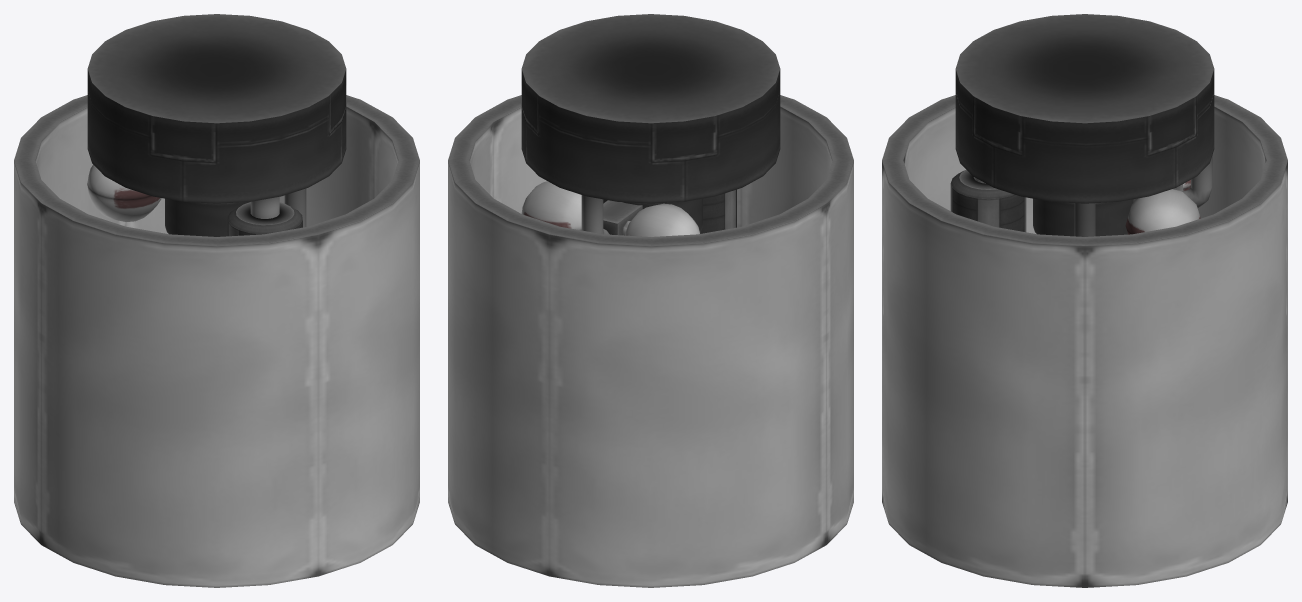
The model's file is bluedog_ablestarEngine.dae.
3 views of the same model, side by side, from view 1: azimuth 30°, elevation 25°; view 2: azimuth 150°, elevation 25°; view 3: azimuth 270°, elevation 25° (orthographic).
Visible parts, largest first — view 1: fairing, AblestarEngine, HeliumTank2, UhThingCylinder, ThingCylinderUp; view 2: fairing, AblestarEngine, HeliumTank1, HeliumTank2, UhThingCylinder, HeliumMount, HeliumOut; view 3: fairing, AblestarEngine, UhThingCylinder, HeliumTank1, HeliumOut, SidePipe.
Boxes of the visible parts, x1,y1,x2,y2 form: fairing: [14, 95, 419, 587]; AblestarEngine: [87, 14, 346, 236]; HeliumTank2: [87, 164, 161, 221]; UhThingCylinder: [227, 202, 302, 236]; ThingCylinderUp: [250, 197, 279, 218]; fairing: [448, 95, 853, 587]; AblestarEngine: [521, 14, 780, 232]; HeliumTank1: [521, 181, 581, 230]; HeliumTank2: [625, 203, 699, 236]; UhThingCylinder: [700, 189, 736, 233]; HeliumMount: [603, 200, 642, 235]; HeliumOut: [581, 195, 609, 234]; fairing: [882, 95, 1287, 587]; AblestarEngine: [955, 14, 1214, 236]; UhThingCylinder: [950, 169, 1026, 232]; HeliumTank1: [1125, 189, 1200, 234]; HeliumOut: [1183, 155, 1212, 207]; SidePipe: [1074, 203, 1095, 236].
Size of the model in its own units: 0.9211 by 1.09 by 0.9211.
